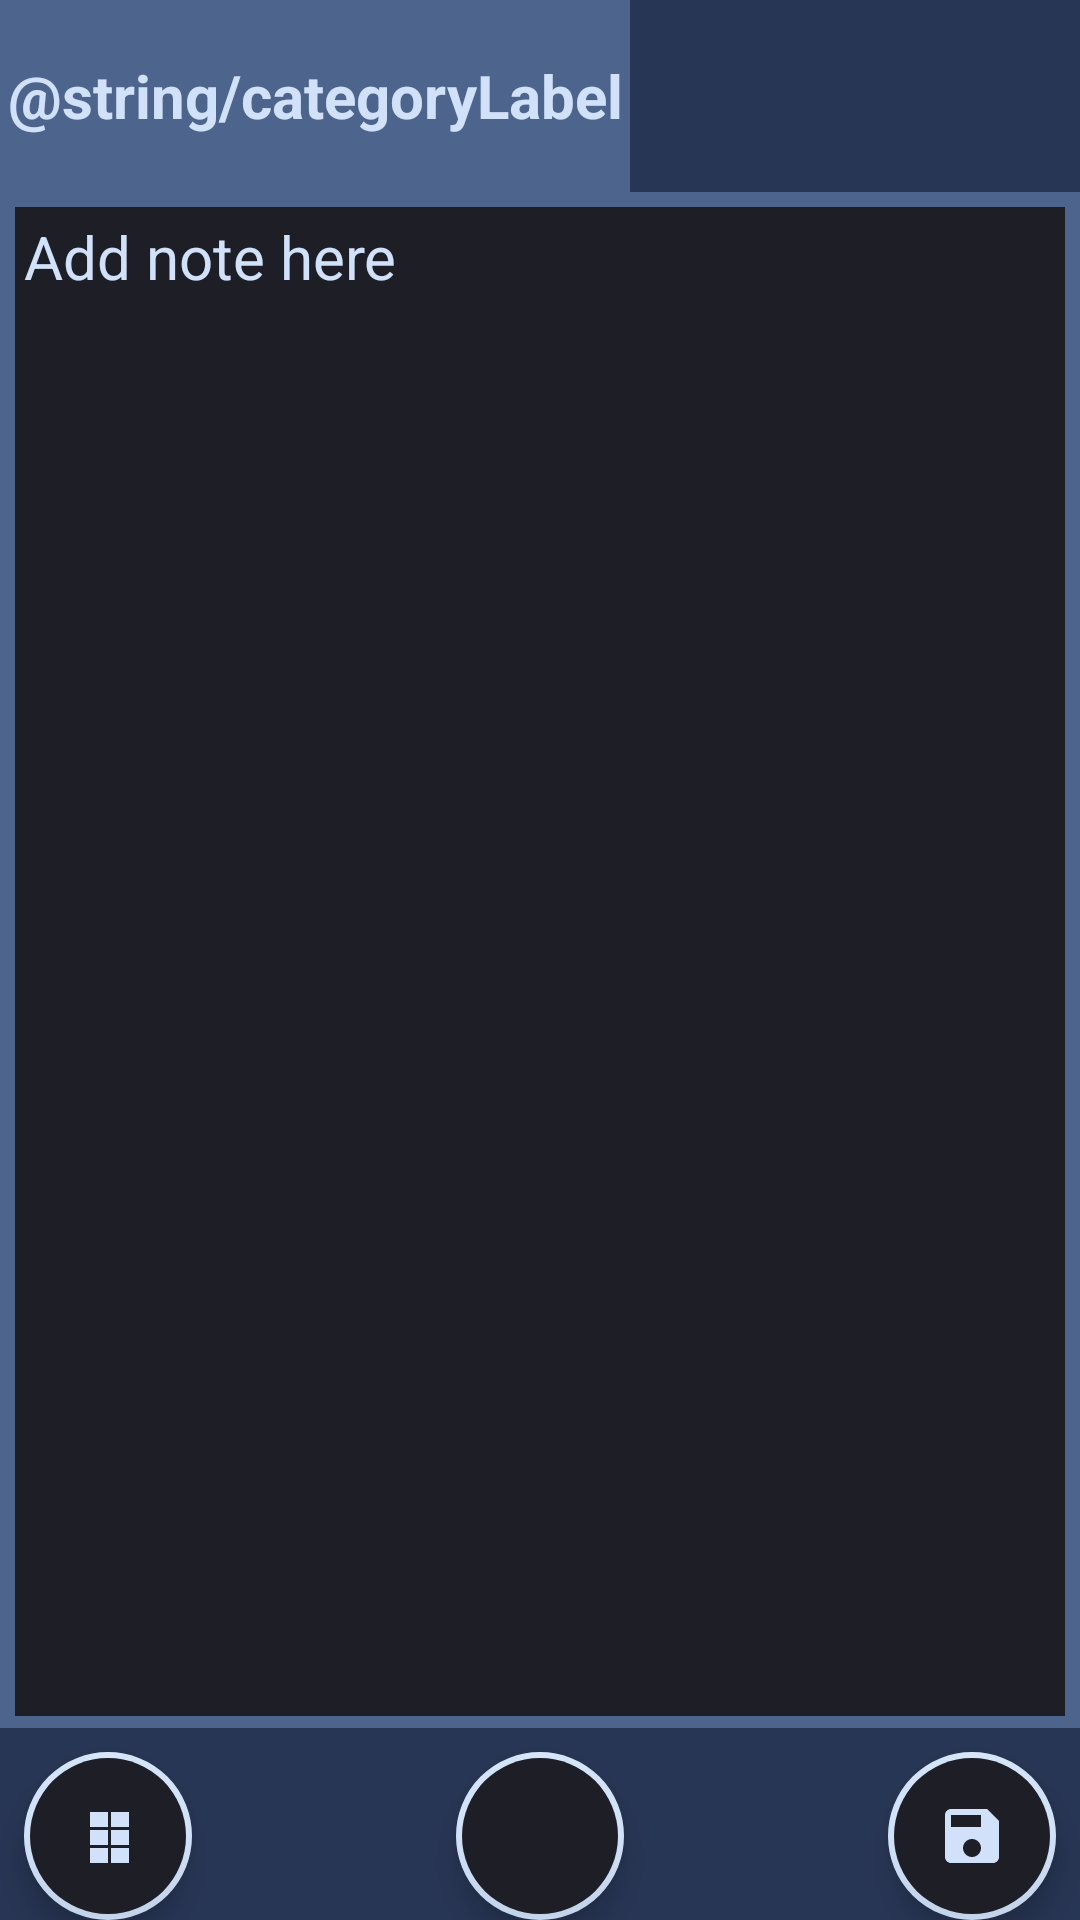

Where icons sit on this 1080×1920 app screen, as {"x1": x1, "y1": y1, "x2": x2, "y2": y2}:
save: {"x1": 888, "y1": 1752, "x2": 1056, "y2": 1920}
